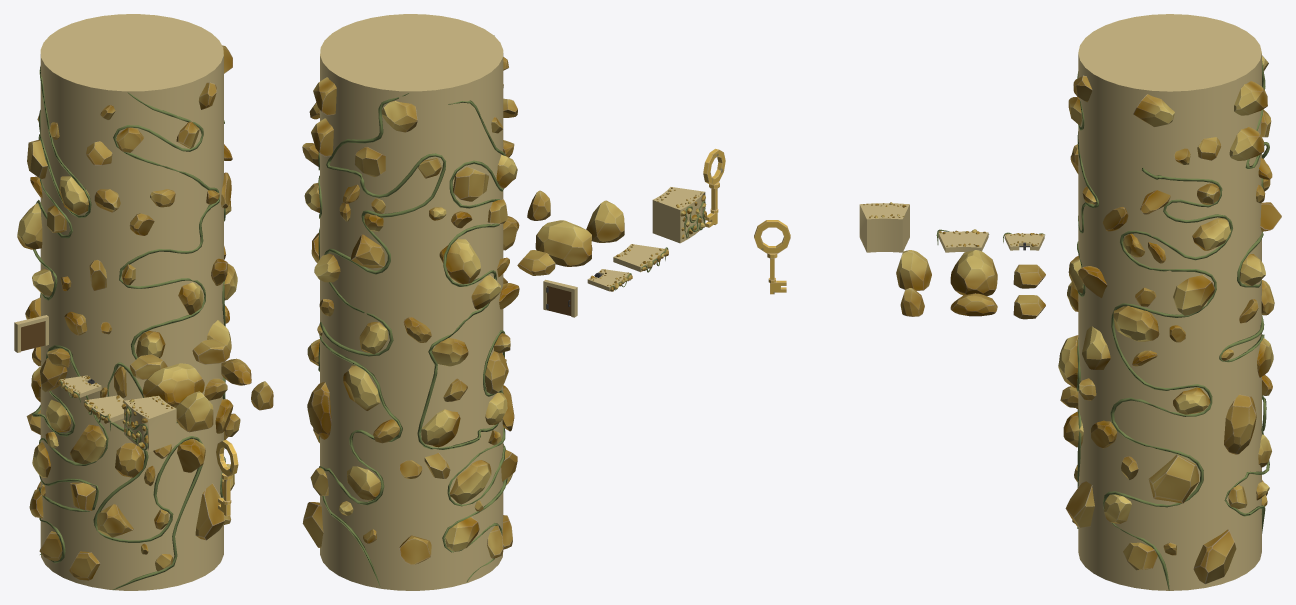
Rendered from spire_maze_v4.fbx.
3 renders of one model, left to right at view 1: azimuth 30°, elevation 25°; view 2: azimuth 150°, elevation 25°; view 3: azimuth 270°, elevation 25°, orthographic.
Visible parts, largest first — view 1: Base_cylinder, Retopo_BezierCurve.002, Big_plate_wall, Stone_4.003, Stone_4.002, Stone_4.249, Stone_4.282, key, Stone_4.168, Stone_4.242, Stone_4.138, Stone_4.203 (+36 smaller); view 2: Base_cylinder, Retopo_BezierCurve.002, Big_plate_wall, Stone_4.003, Stone_4.168, Stone_4.002, Stone_4.144, Stone_4.075, Stone_4.156, Stone_4.284, Stone_4.181, key (+18 smaller); view 3: Base_cylinder, Retopo_BezierCurve.002, Big_plate_wall, Stone_4.003, Stone_4.235, Stone_4.284, Stone_4.265, Stone_4.106, Stone_4.173, Stone_4.002, key, Stone_4.249 (+10 smaller).
Part boxes in pixels (box(x1,y1,x2,y2)): Base_cylinder: box(40, 14, 223, 590); Retopo_BezierCurve.002: box(31, 66, 225, 590); Big_plate_wall: box(124, 395, 176, 452); Stone_4.003: box(142, 363, 204, 407); Stone_4.002: box(176, 391, 213, 432); Stone_4.249: box(195, 483, 224, 540); Stone_4.282: box(70, 424, 106, 464); key: box(216, 440, 238, 516); Stone_4.168: box(17, 203, 42, 249); Stone_4.242: box(115, 443, 144, 477); Stone_4.138: box(59, 176, 89, 215); Stone_4.203: box(97, 504, 133, 537); Base_cylinder: box(320, 14, 503, 590); Retopo_BezierCurve.002: box(318, 35, 507, 586); Big_plate_wall: box(652, 187, 705, 243); Stone_4.003: box(535, 220, 592, 266); Stone_4.168: box(439, 239, 480, 284); Stone_4.002: box(586, 200, 624, 242); Stone_4.144: box(450, 460, 491, 504); Stone_4.075: box(343, 365, 380, 410); Stone_4.156: box(421, 409, 460, 447); Stone_4.284: box(307, 382, 331, 439); Stone_4.181: box(453, 166, 488, 201); key: box(703, 148, 725, 227); Base_cylinder: box(1078, 14, 1261, 590); Retopo_BezierCurve.002: box(1076, 61, 1269, 590); Big_plate_wall: box(859, 203, 909, 252); Stone_4.003: box(950, 250, 997, 296); Stone_4.235: box(1148, 454, 1198, 503); Stone_4.284: box(1224, 394, 1256, 454); Stone_4.265: box(1193, 529, 1236, 584); Stone_4.106: box(1113, 305, 1159, 341); Stone_4.173: box(1173, 275, 1215, 315); Stone_4.002: box(896, 250, 931, 290); key: box(754, 220, 790, 294); Stone_4.249: box(1065, 481, 1094, 527).
Size of the model in its own units: 1481 by 3001 by 2874.
Materials: 5 (1 with a texture image).
